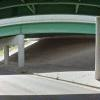Bridge: (5, 2, 96, 56)
